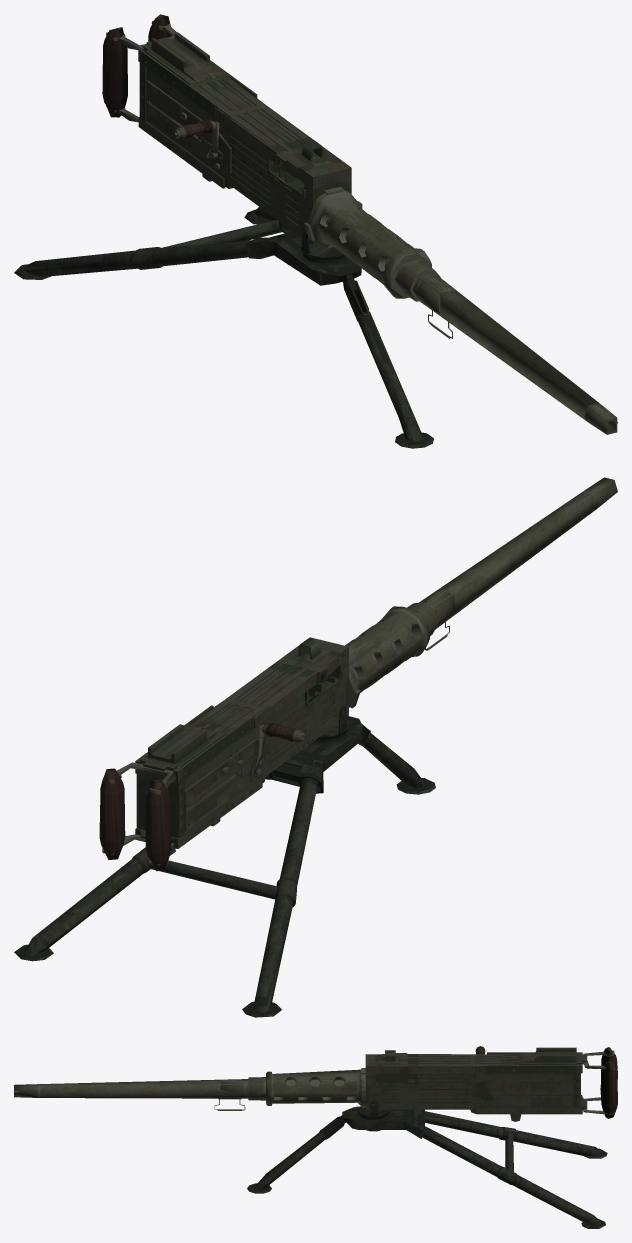
The model's file is gun_mg.glb.
3 views of the same model, one above another, from view 1: azimuth 30°, elevation 25°; view 2: azimuth 150°, elevation 25°; view 3: azimuth 270°, elevation 25° (orthographic). The views are drawn at different scales.
Parts seen in each view (by area): view 1: object 1, PITCH_0, object 3; view 2: object 1, PITCH_0, object 3; view 3: object 1, PITCH_0, object 3.
Part boxes in pixels (x1,y1,x2,y2): object 1: [138, 32, 351, 245]; PITCH_0: [102, 14, 617, 434]; object 3: [14, 207, 433, 448]; object 1: [135, 637, 348, 848]; PITCH_0: [99, 477, 617, 871]; object 3: [14, 706, 435, 1017]; object 1: [365, 1047, 586, 1121]; PITCH_0: [14, 1046, 617, 1118]; object 3: [247, 1101, 607, 1228].
Bounding box in the file's own units: 0.6868 × 0.5596 × 2.2.
Materials: 3 (3 with a texture image).
